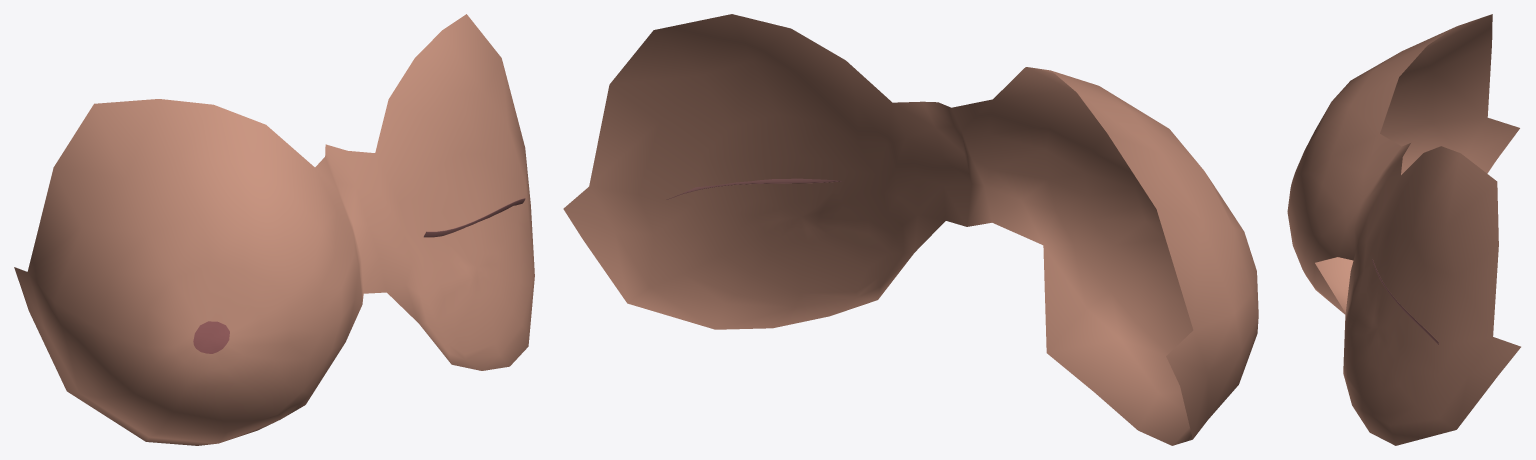
Rendered from Chest_LEFT.fbx.
3 views of the same model, side by side, from view 1: azimuth 30°, elevation 25°; view 2: azimuth 150°, elevation 25°; view 3: azimuth 270°, elevation 25° (orthographic). The views are drawn at different scales.
Parts seen in each view (by area): view 1: barefoot001.001; view 2: barefoot001.001; view 3: barefoot001.001.
Part boxes in pixels (left/top/right/bottom): barefoot001.001: left=14, top=14, right=534, bottom=445; barefoot001.001: left=563, top=14, right=1258, bottom=445; barefoot001.001: left=1287, top=14, right=1520, bottom=445.
Size of the model in its own units: 2096 by 1228 by 929.
